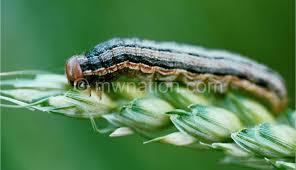fallarmy_worm: (55, 35, 292, 119)
